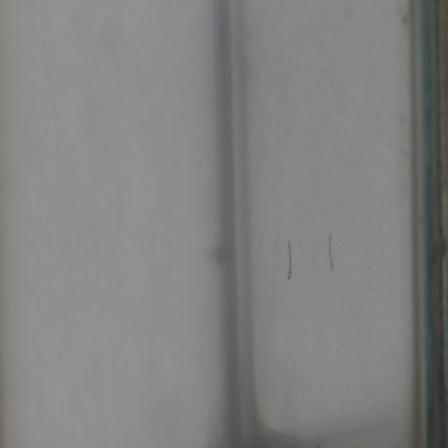Jentik-Nyamuk: (283, 239, 296, 281)
